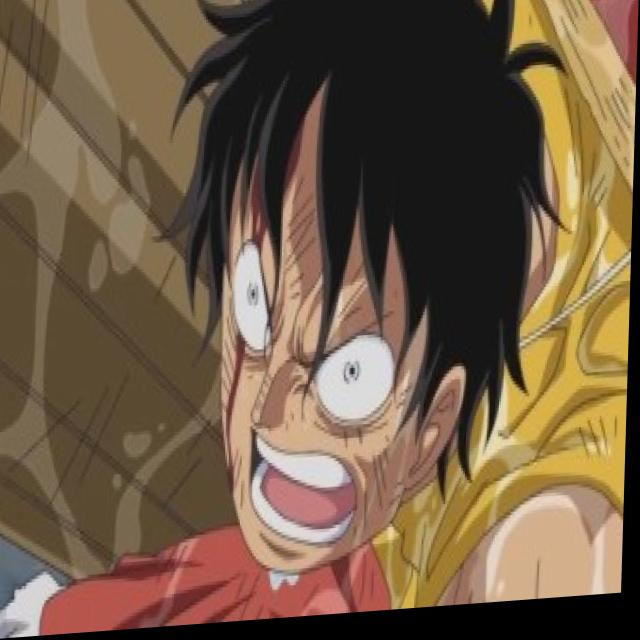Luffy: (165, 0, 536, 569)
